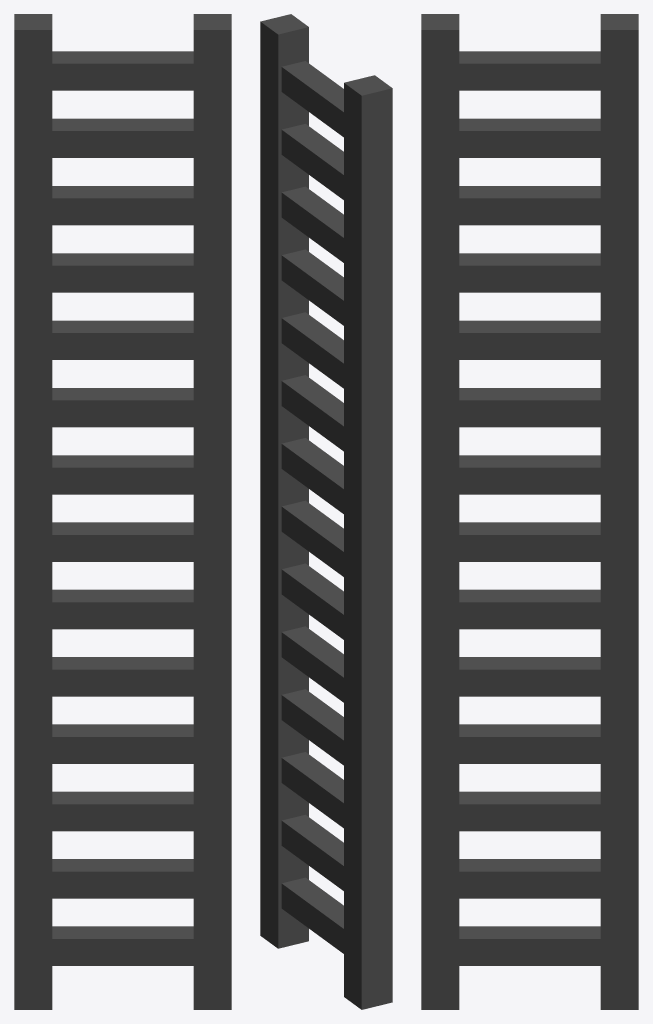
The model's file is LadderFull.fbx.
3 views of the same model, side by side, from view 1: azimuth 90°, elevation 25°; view 2: azimuth 210°, elevation 25°; view 3: azimuth 270°, elevation 25° (orthographic). The views are drawn at different scales.
Visible parts, largest first — view 1: Cube; view 2: Cube; view 3: Cube.
Boxes of the visible parts, left/top/right/bottom form: Cube: left=14, top=14, right=231, bottom=1009; Cube: left=260, top=14, right=392, bottom=1009; Cube: left=421, top=14, right=638, bottom=1009.
Size of the model in its own units: 0.4262 by 12.07 by 2.43.
